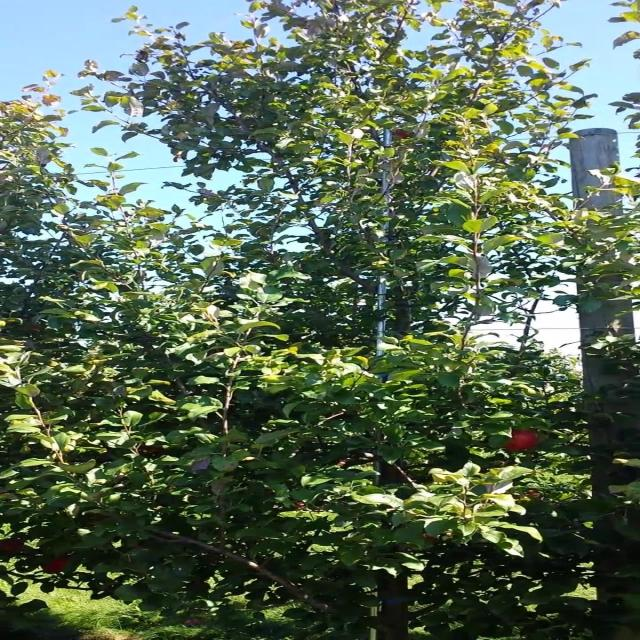apple: (502, 429, 538, 451), (40, 556, 69, 573), (0, 539, 24, 555), (391, 129, 413, 139), (420, 534, 440, 544)
